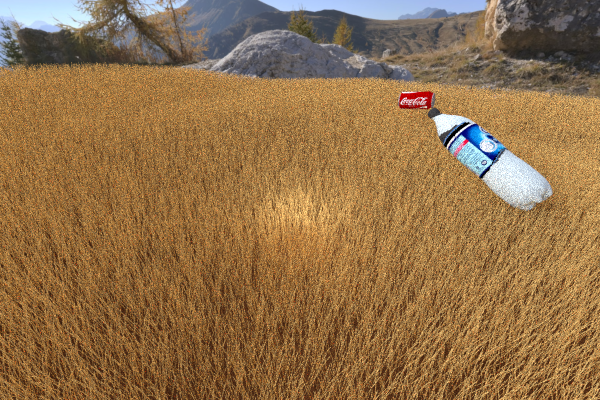bottle: (430, 108, 558, 212)
can: (329, 124, 378, 185), (203, 103, 256, 130)
